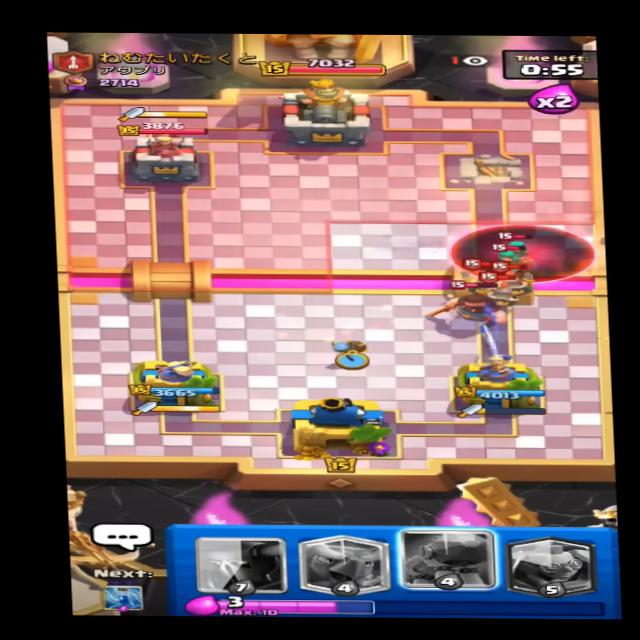guards: (502, 270, 537, 296), (485, 282, 517, 306)
rascal-boy: (466, 274, 546, 313)
rascal-girl: (491, 244, 524, 271), (503, 233, 529, 256)
